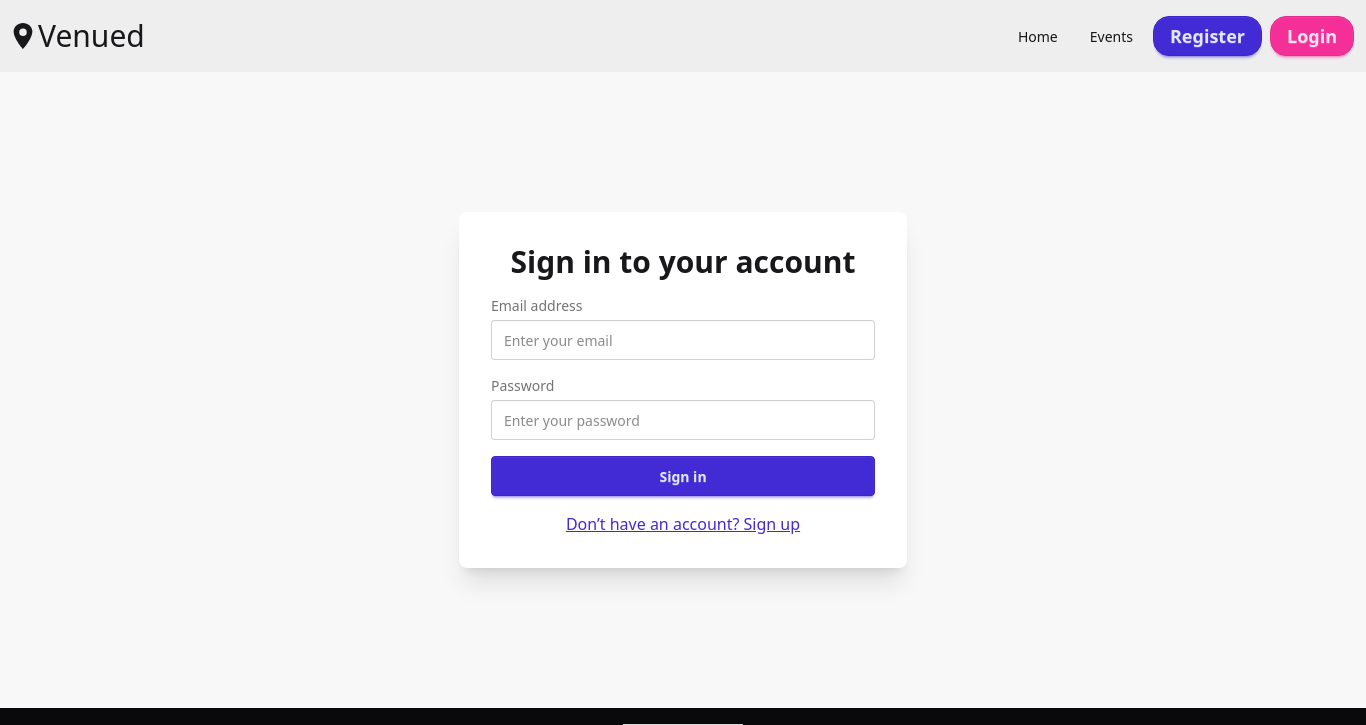
Test: auth flow: echte Formulare, Actions, Provider und Routen › meldet sich an, zeigt den geschützten Bereich und meldet sich wieder ab
Type "ada@example.com" into the field labelled "Email address" at (683, 340), box [491,320,875,360]
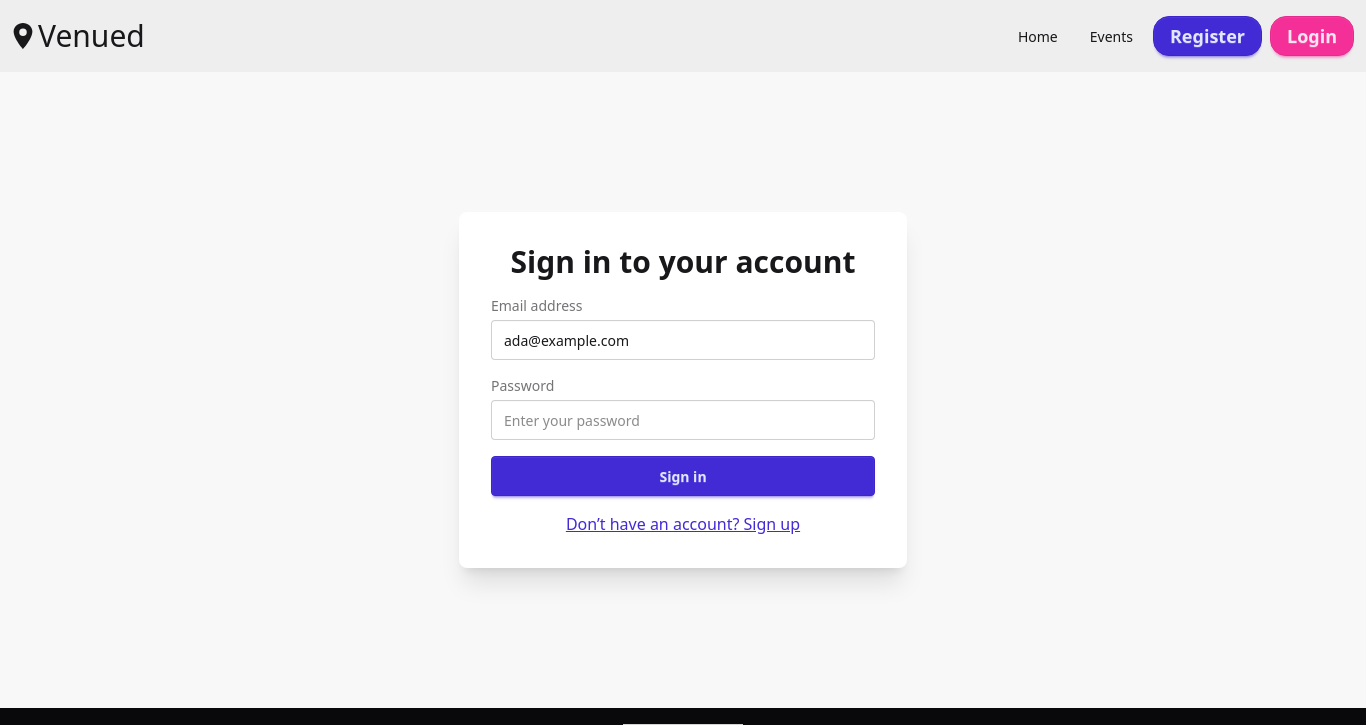
Type "password123" into the password field labelled "Password" at (683, 420), box [491,400,875,440]
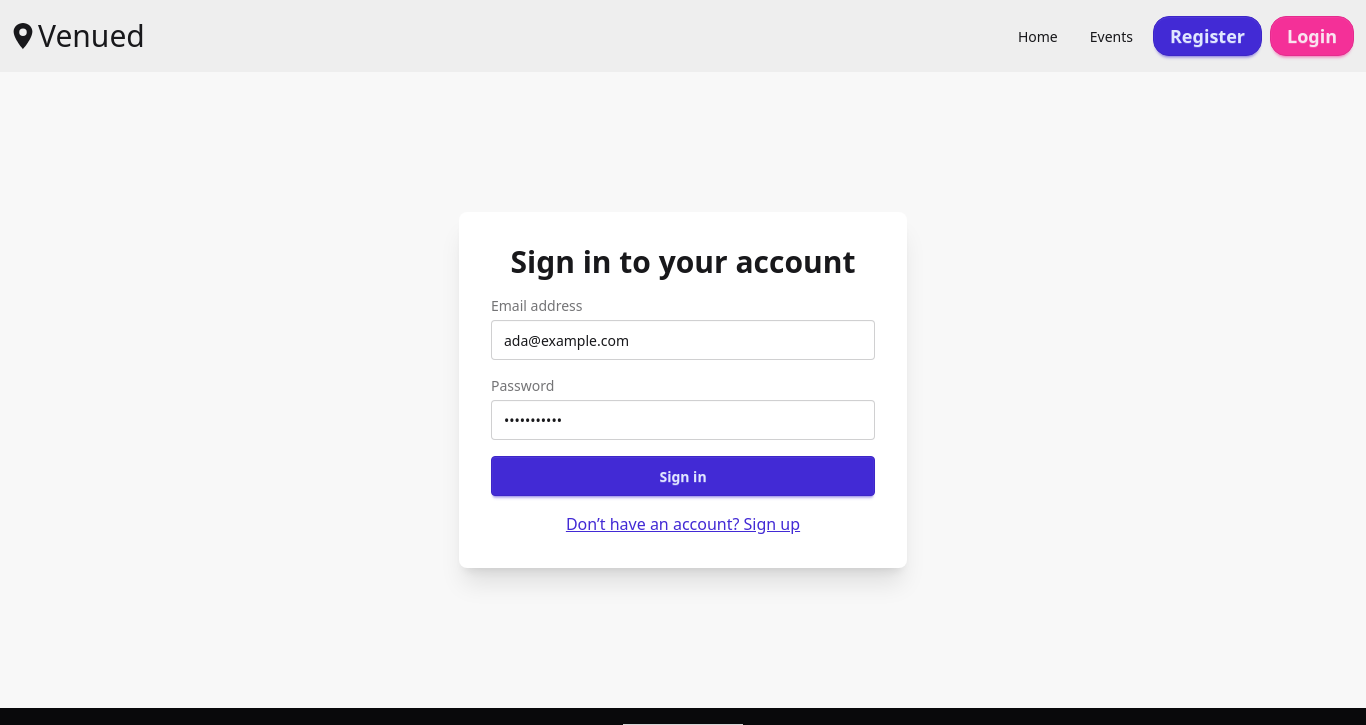
Click the button "Sign in" at (683, 476), box [491,456,875,496]
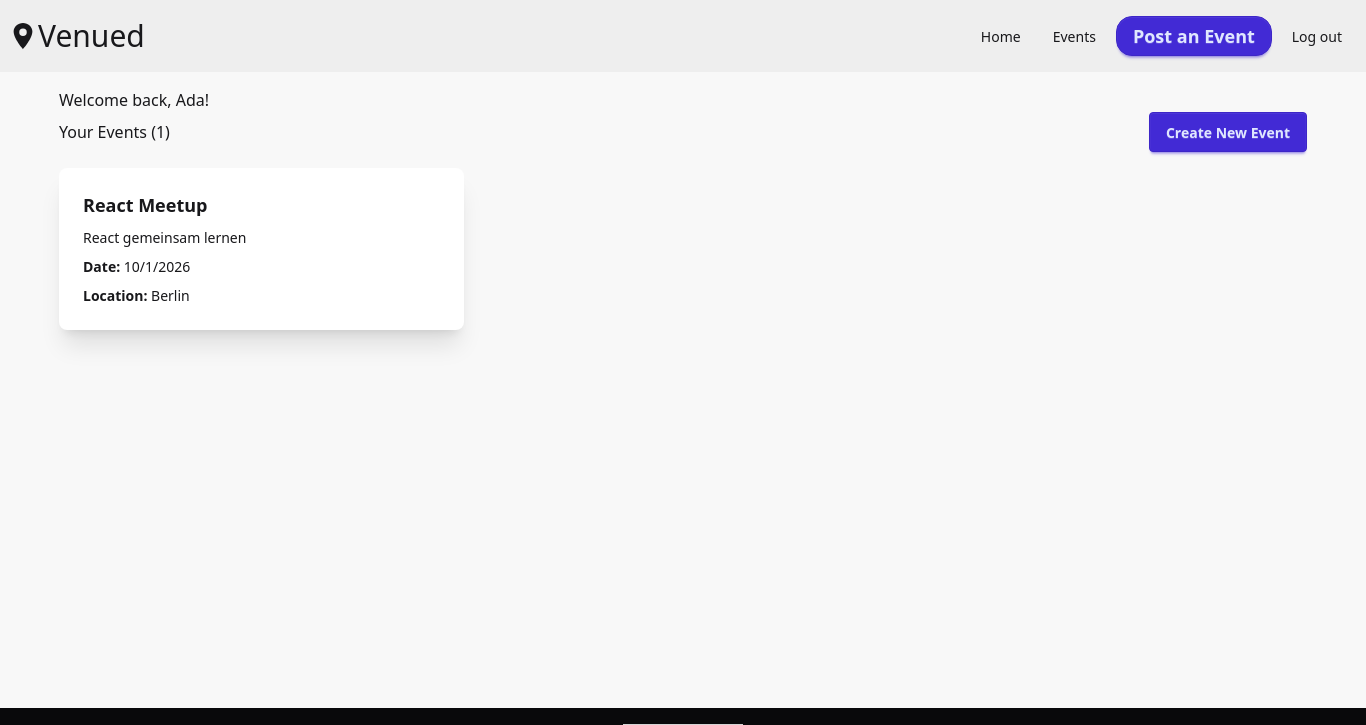
Expected: the text "Welcome back, Ada!" is shown, [59,89,209,111]
Click the button "Log out" at (1317, 36), box [1280,20,1354,52]
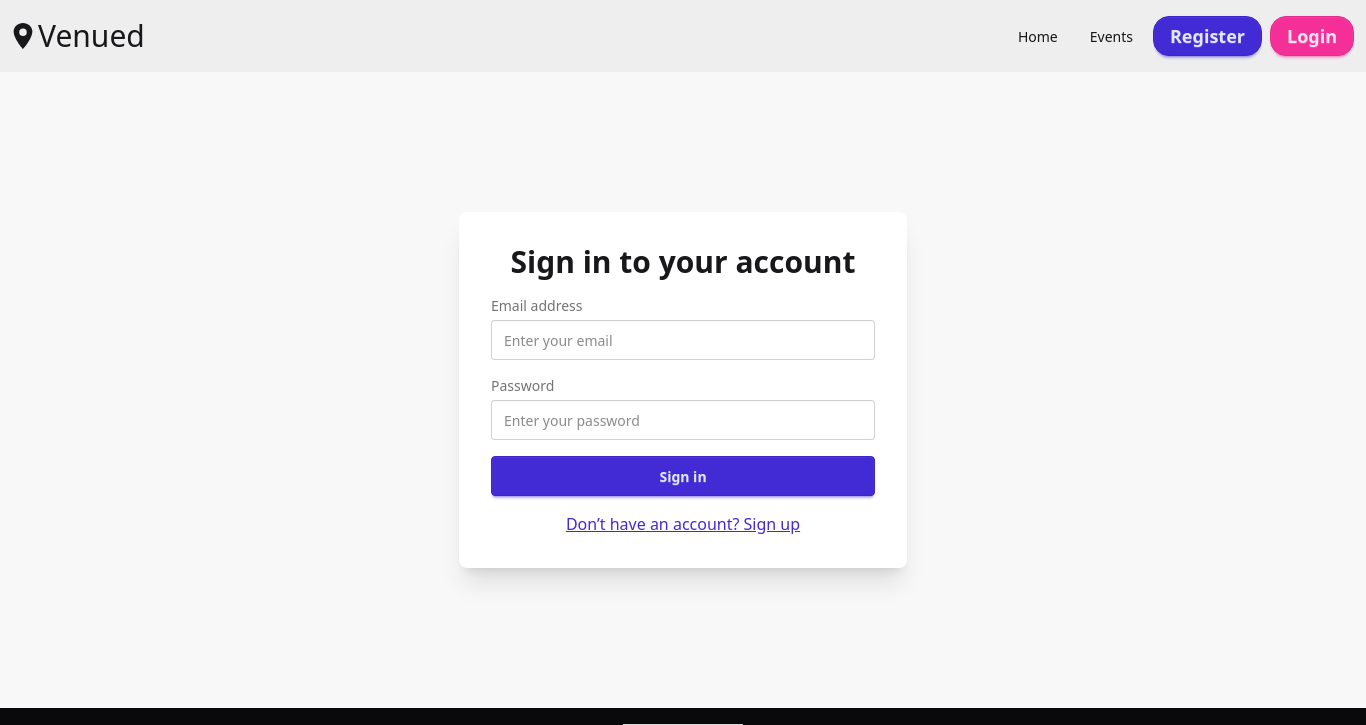
Expected: the heading "Sign in to your account" is shown, [491,244,875,280]
